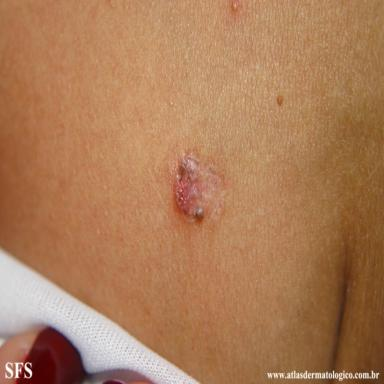basal-cell-carcinoma: (173, 154, 224, 223)
